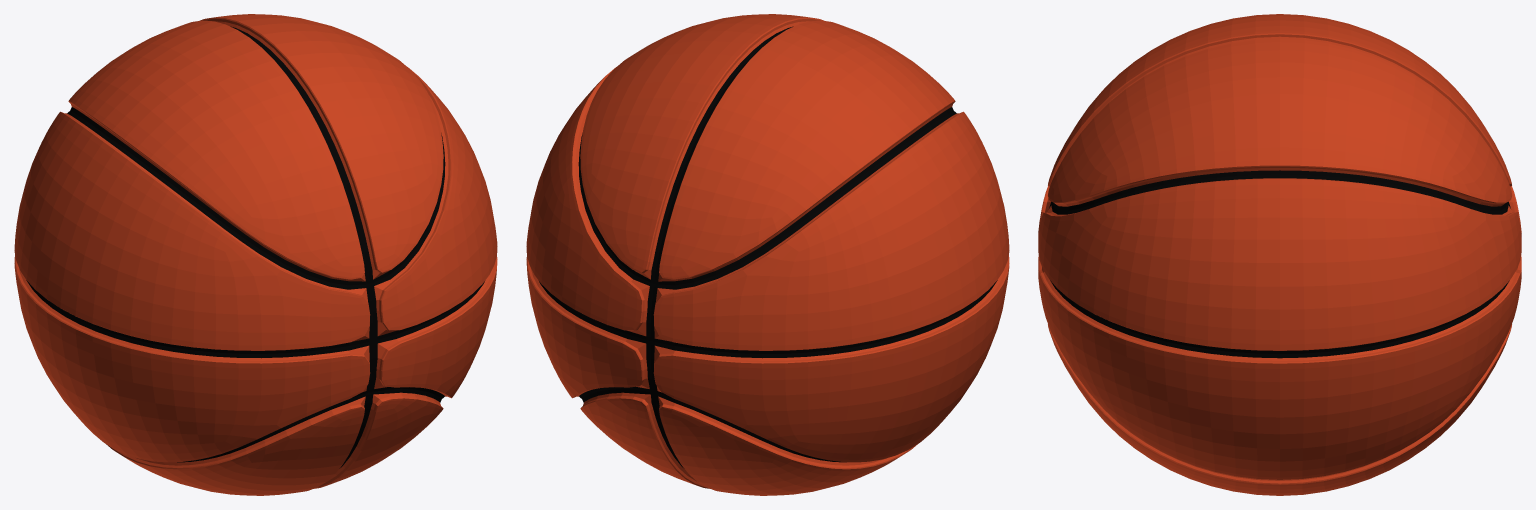
Rendered from BolaDeBasquete.glb.
The picture shows the model from 3 angles, left to right: view 1: azimuth 30°, elevation 25°; view 2: azimuth 150°, elevation 25°; view 3: azimuth 270°, elevation 25°; orthographic projection.
Visible parts, largest first — view 1: Cubo; view 2: Cubo; view 3: Cubo.
Part boxes in pixels (x1,y1,x2,y2): Cubo: (14,14,497,495); Cubo: (526,14,1009,495); Cubo: (1038,14,1521,495).
Size of the model in its own units: 1.63 by 1.63 by 1.63.
